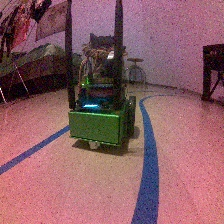rob: (66, 32, 137, 150)
